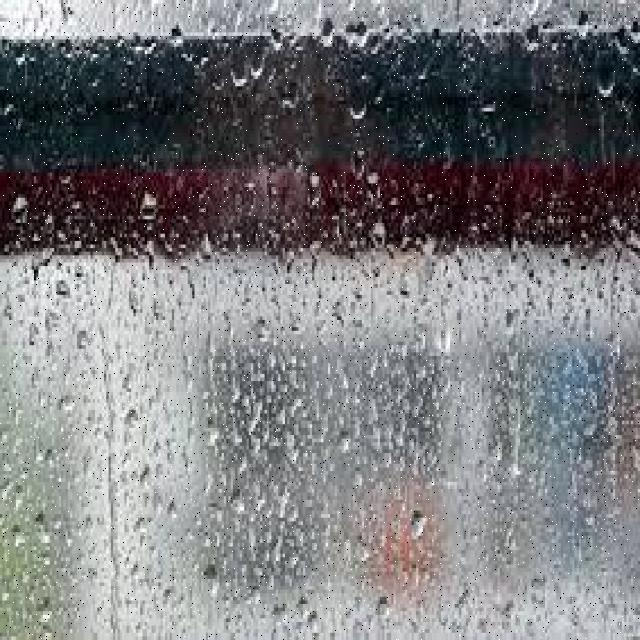raindrop: (332, 64, 374, 124), (192, 548, 225, 614), (344, 0, 376, 68), (0, 174, 35, 233), (583, 48, 625, 96), (32, 498, 59, 570), (133, 174, 169, 227), (218, 474, 254, 527), (359, 207, 392, 260), (196, 214, 224, 274), (400, 498, 429, 554), (314, 0, 342, 58), (50, 387, 80, 429)
